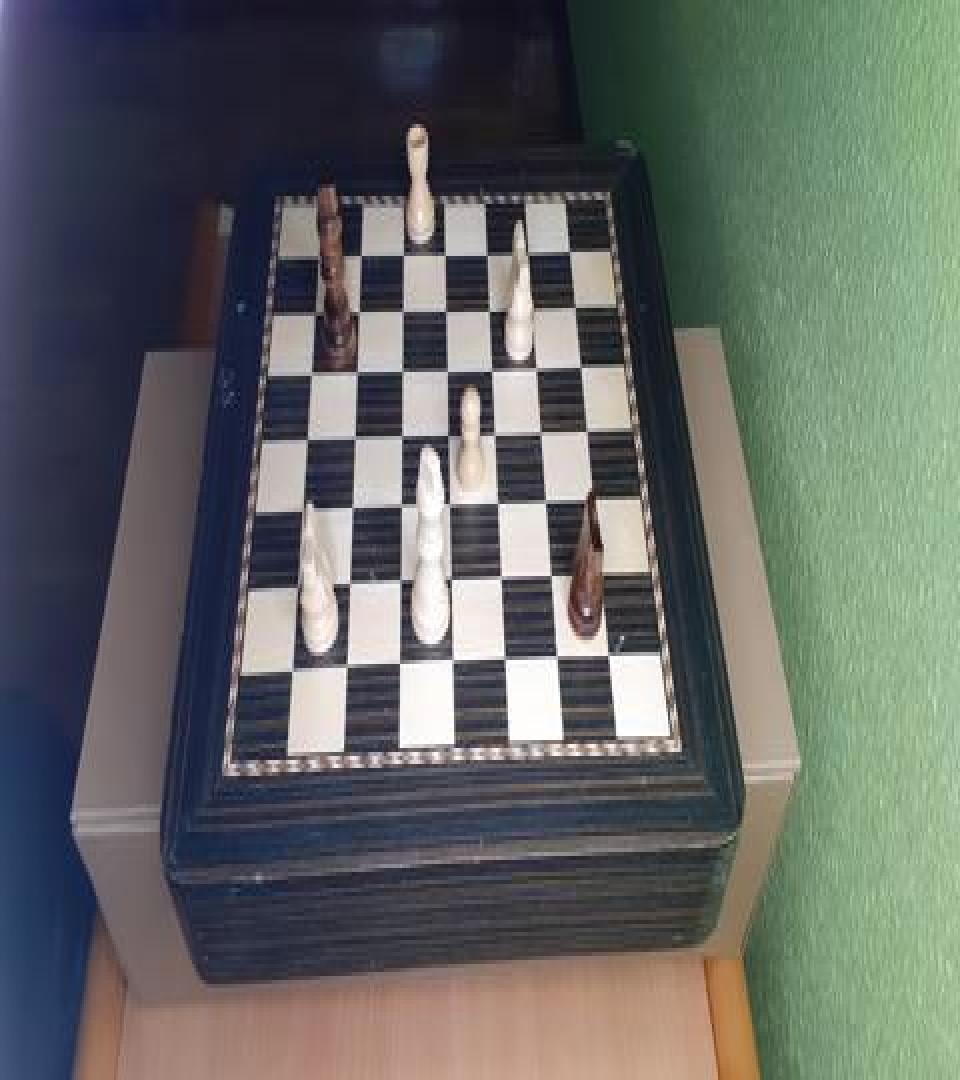xcorner: (312, 236, 324, 260), (308, 294, 320, 318), (304, 356, 316, 380), (300, 422, 312, 446), (295, 494, 307, 518), (290, 572, 302, 596), (284, 658, 296, 682), (355, 236, 367, 260), (353, 294, 365, 318), (350, 354, 362, 378), (348, 422, 360, 446), (345, 494, 357, 518), (342, 572, 354, 596), (339, 656, 351, 680), (398, 236, 410, 260), (397, 292, 409, 316), (396, 354, 408, 378), (396, 420, 408, 444), (395, 492, 407, 516), (394, 570, 406, 594), (393, 654, 405, 678), (440, 236, 452, 260), (441, 292, 453, 316), (442, 354, 454, 378), (443, 420, 455, 444), (444, 490, 456, 514), (446, 568, 458, 592), (447, 652, 459, 676), (482, 236, 494, 260), (485, 292, 497, 316), (487, 352, 499, 376), (490, 418, 502, 442), (493, 490, 505, 514), (497, 566, 509, 590), (500, 650, 512, 674), (524, 236, 536, 260), (528, 292, 540, 316), (532, 352, 544, 376), (537, 418, 549, 442), (542, 488, 554, 512), (547, 564, 559, 588), (553, 648, 565, 672), (566, 236, 578, 260), (571, 292, 583, 316), (577, 352, 589, 376), (583, 416, 595, 440), (590, 488, 602, 512), (598, 564, 610, 588), (606, 646, 618, 670)
